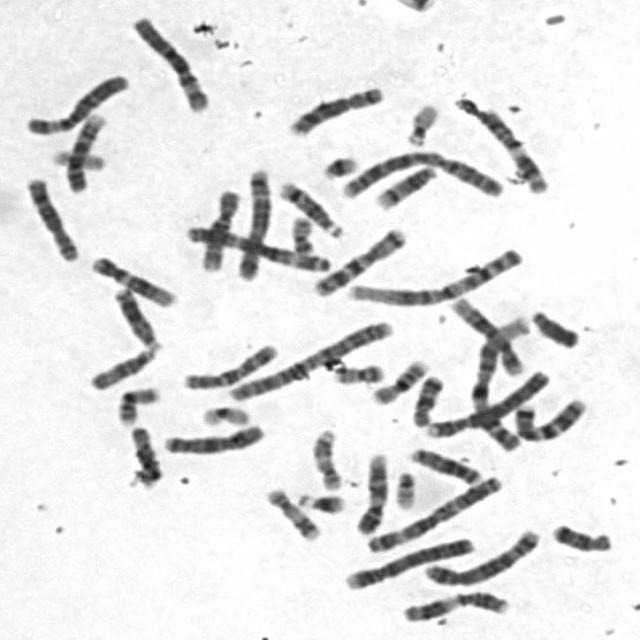A1: (340, 242, 526, 308), (464, 310, 533, 452)
A2: (222, 316, 395, 402), (334, 145, 506, 200)
A3: (362, 470, 506, 556), (181, 220, 334, 273)
B4: (422, 364, 552, 440), (337, 530, 478, 592)
B5: (419, 524, 543, 588), (233, 162, 276, 282)
C10: (177, 338, 282, 392), (196, 184, 245, 273)
C11: (449, 92, 552, 194), (397, 586, 514, 623)
C12: (444, 291, 526, 377), (85, 250, 180, 308)
C6: (127, 9, 213, 113), (21, 68, 132, 137)
C7: (307, 222, 411, 298), (510, 393, 589, 443)
C8: (283, 80, 389, 137), (18, 171, 83, 263)
C9: (61, 108, 109, 194), (351, 448, 391, 536)
D13: (108, 282, 165, 352), (403, 443, 483, 486)
D14: (274, 176, 345, 238), (370, 160, 440, 210)
D15: (85, 342, 160, 392), (123, 421, 165, 488)
E16: (366, 353, 433, 406), (112, 381, 164, 427)
E17: (260, 482, 324, 542), (308, 423, 346, 492)
E18: (547, 518, 616, 554), (406, 370, 447, 428)
F19: (46, 144, 107, 172), (196, 399, 253, 428)
F20: (328, 357, 387, 386), (286, 211, 318, 256)
G21: (294, 487, 348, 515), (316, 149, 362, 180)
G22: (401, 98, 442, 148), (389, 465, 419, 511)
X: (157, 418, 268, 457)
Y: (525, 304, 582, 350)
